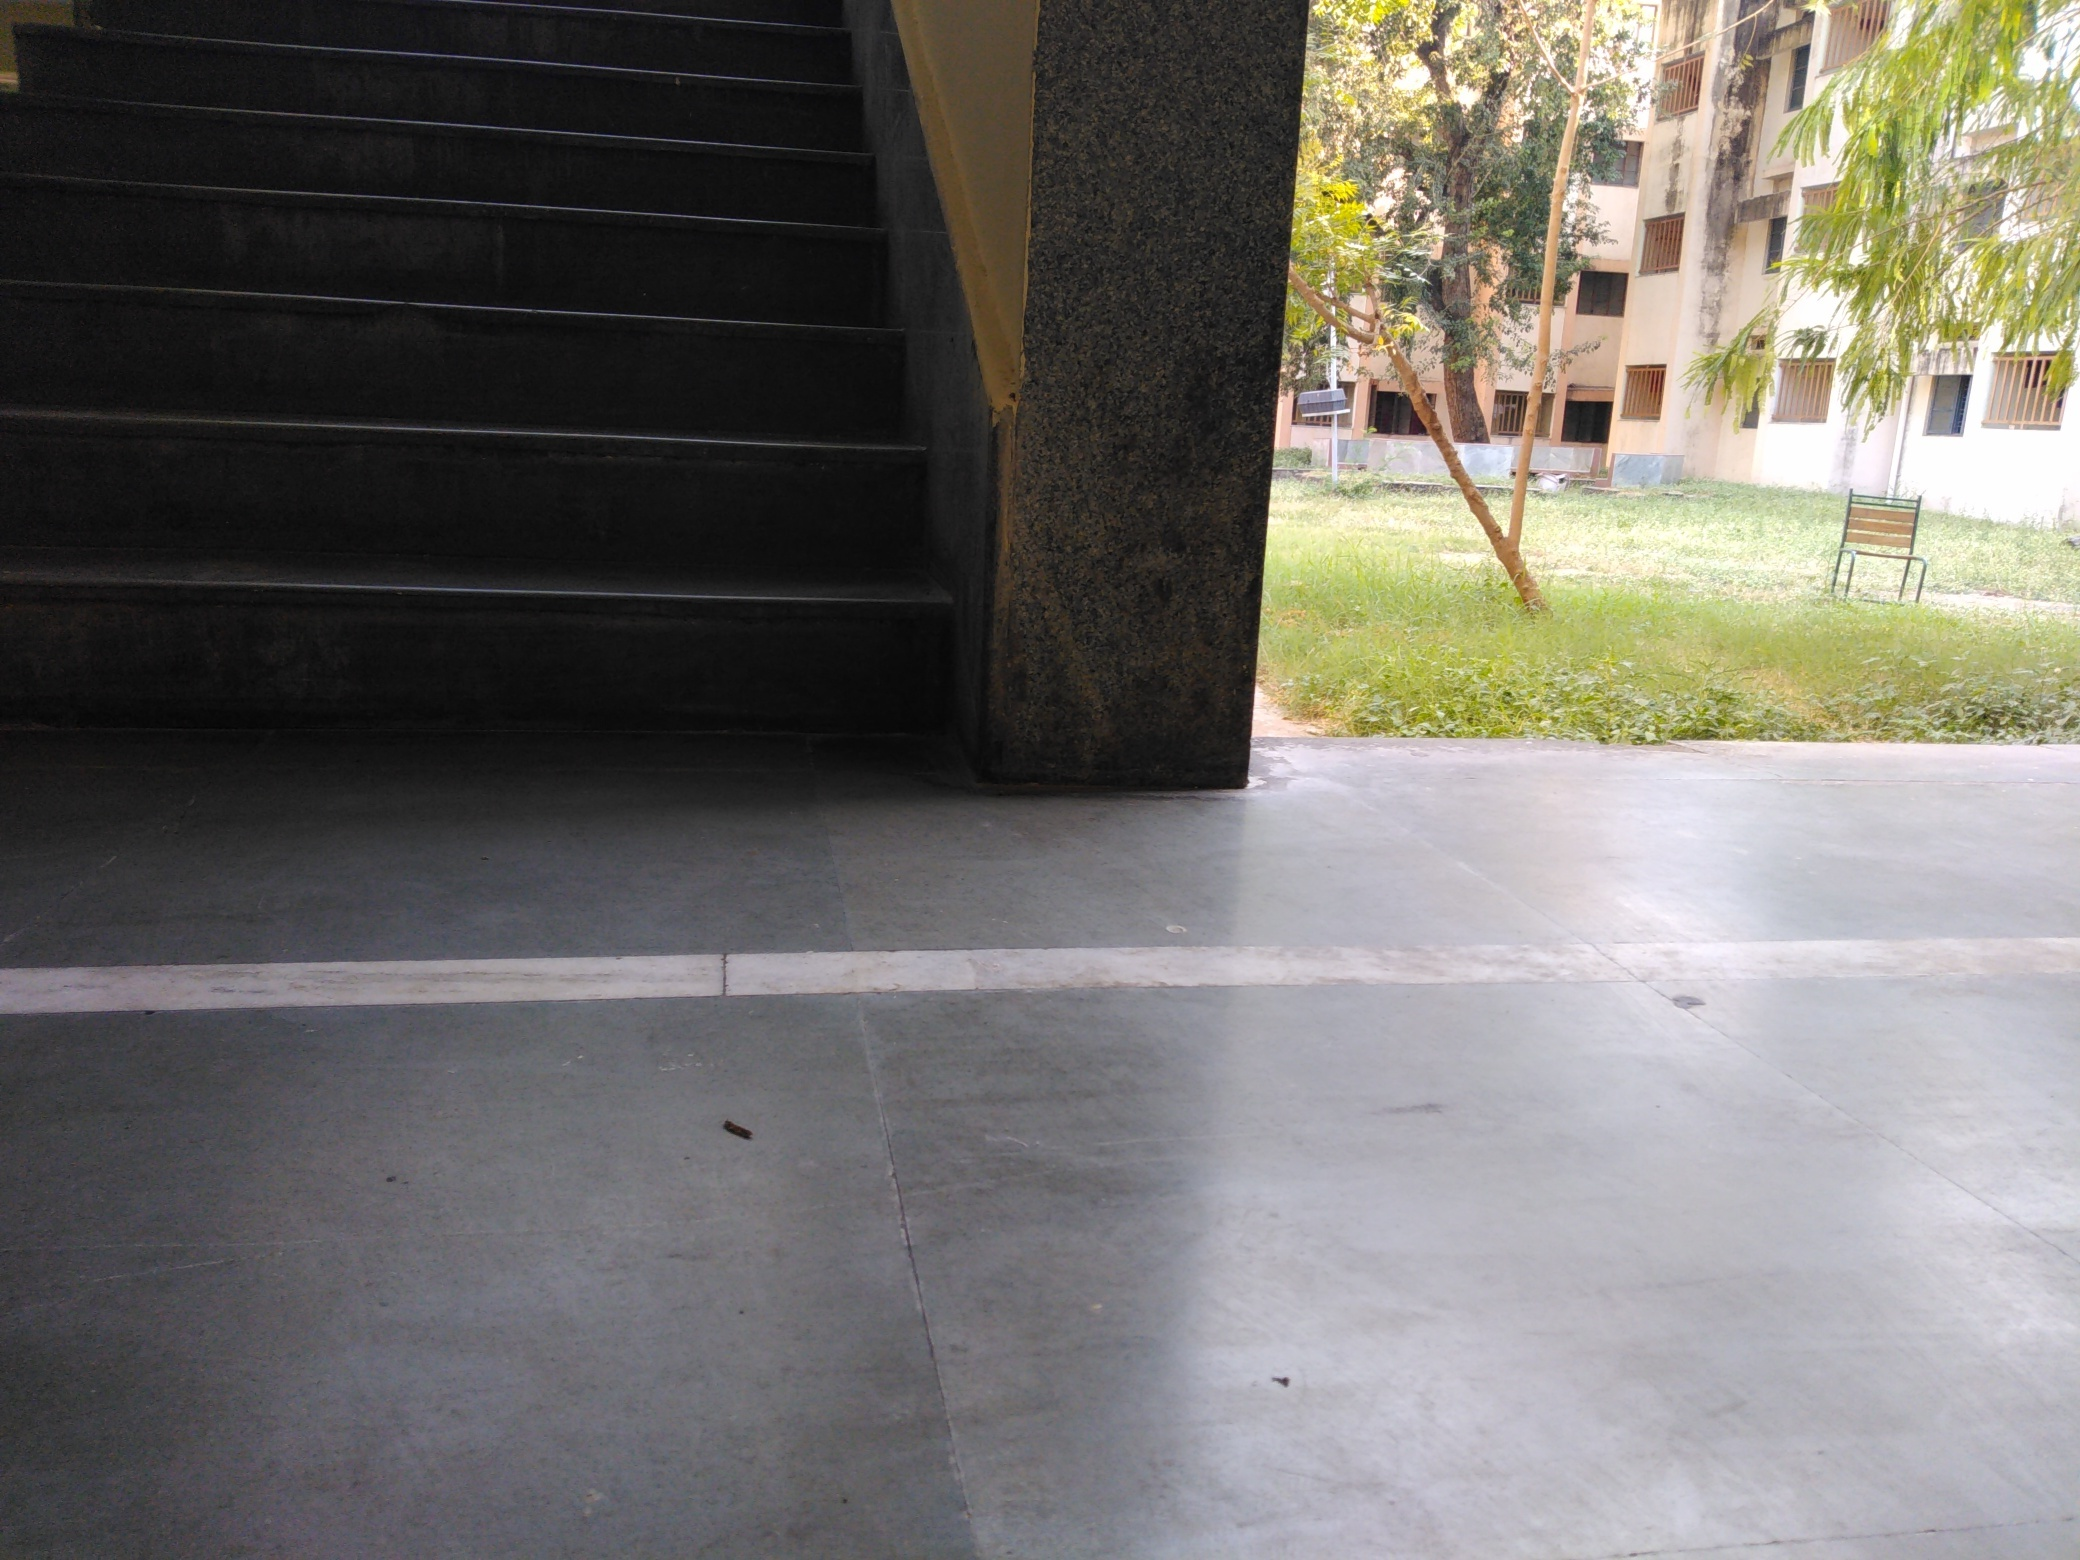stairs_up: (43, 11, 988, 724)
